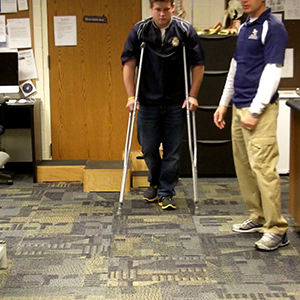person: (212, 1, 293, 251), (119, 1, 205, 216)
